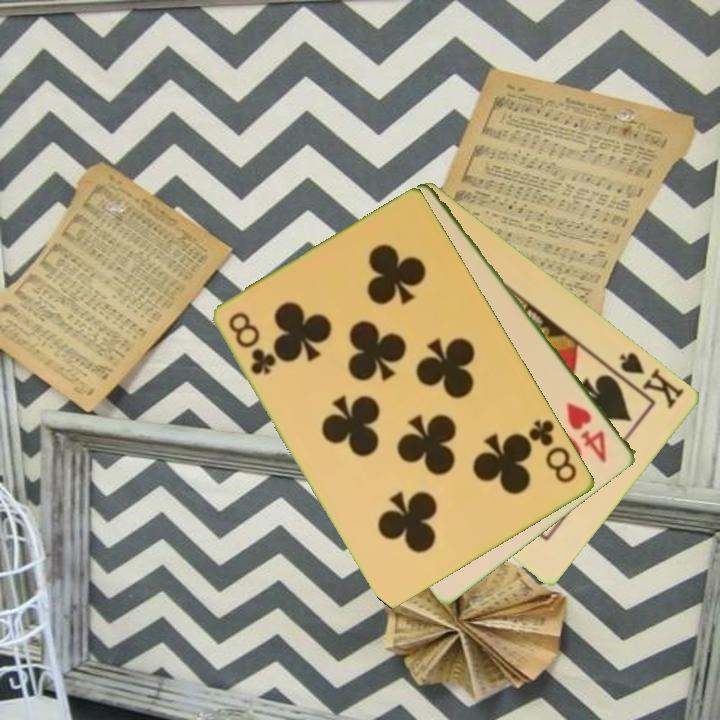4h: (563, 398, 611, 466)
8c: (525, 416, 581, 487), (225, 308, 280, 378)
Ks: (607, 348, 688, 412)
